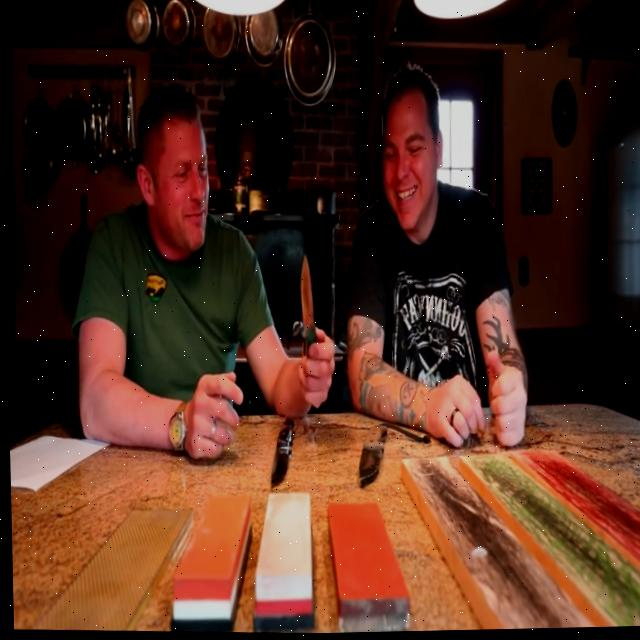knife: (265, 414, 294, 490), (354, 424, 387, 486), (296, 254, 318, 347)
